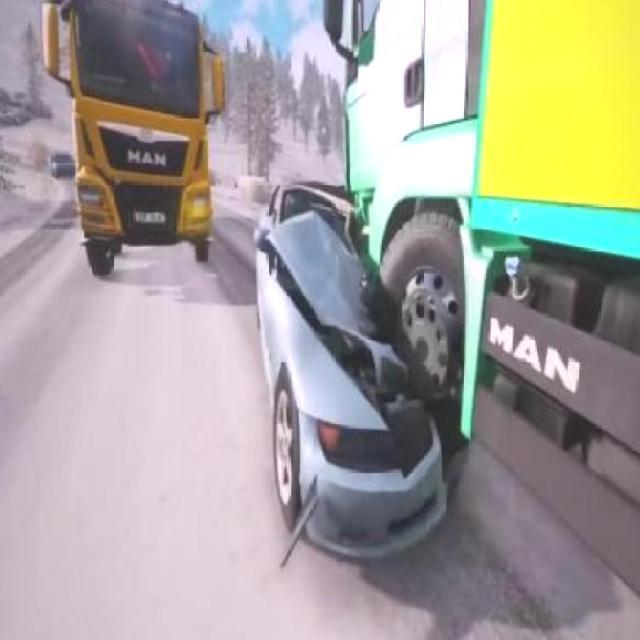accident: (237, 0, 640, 588)
